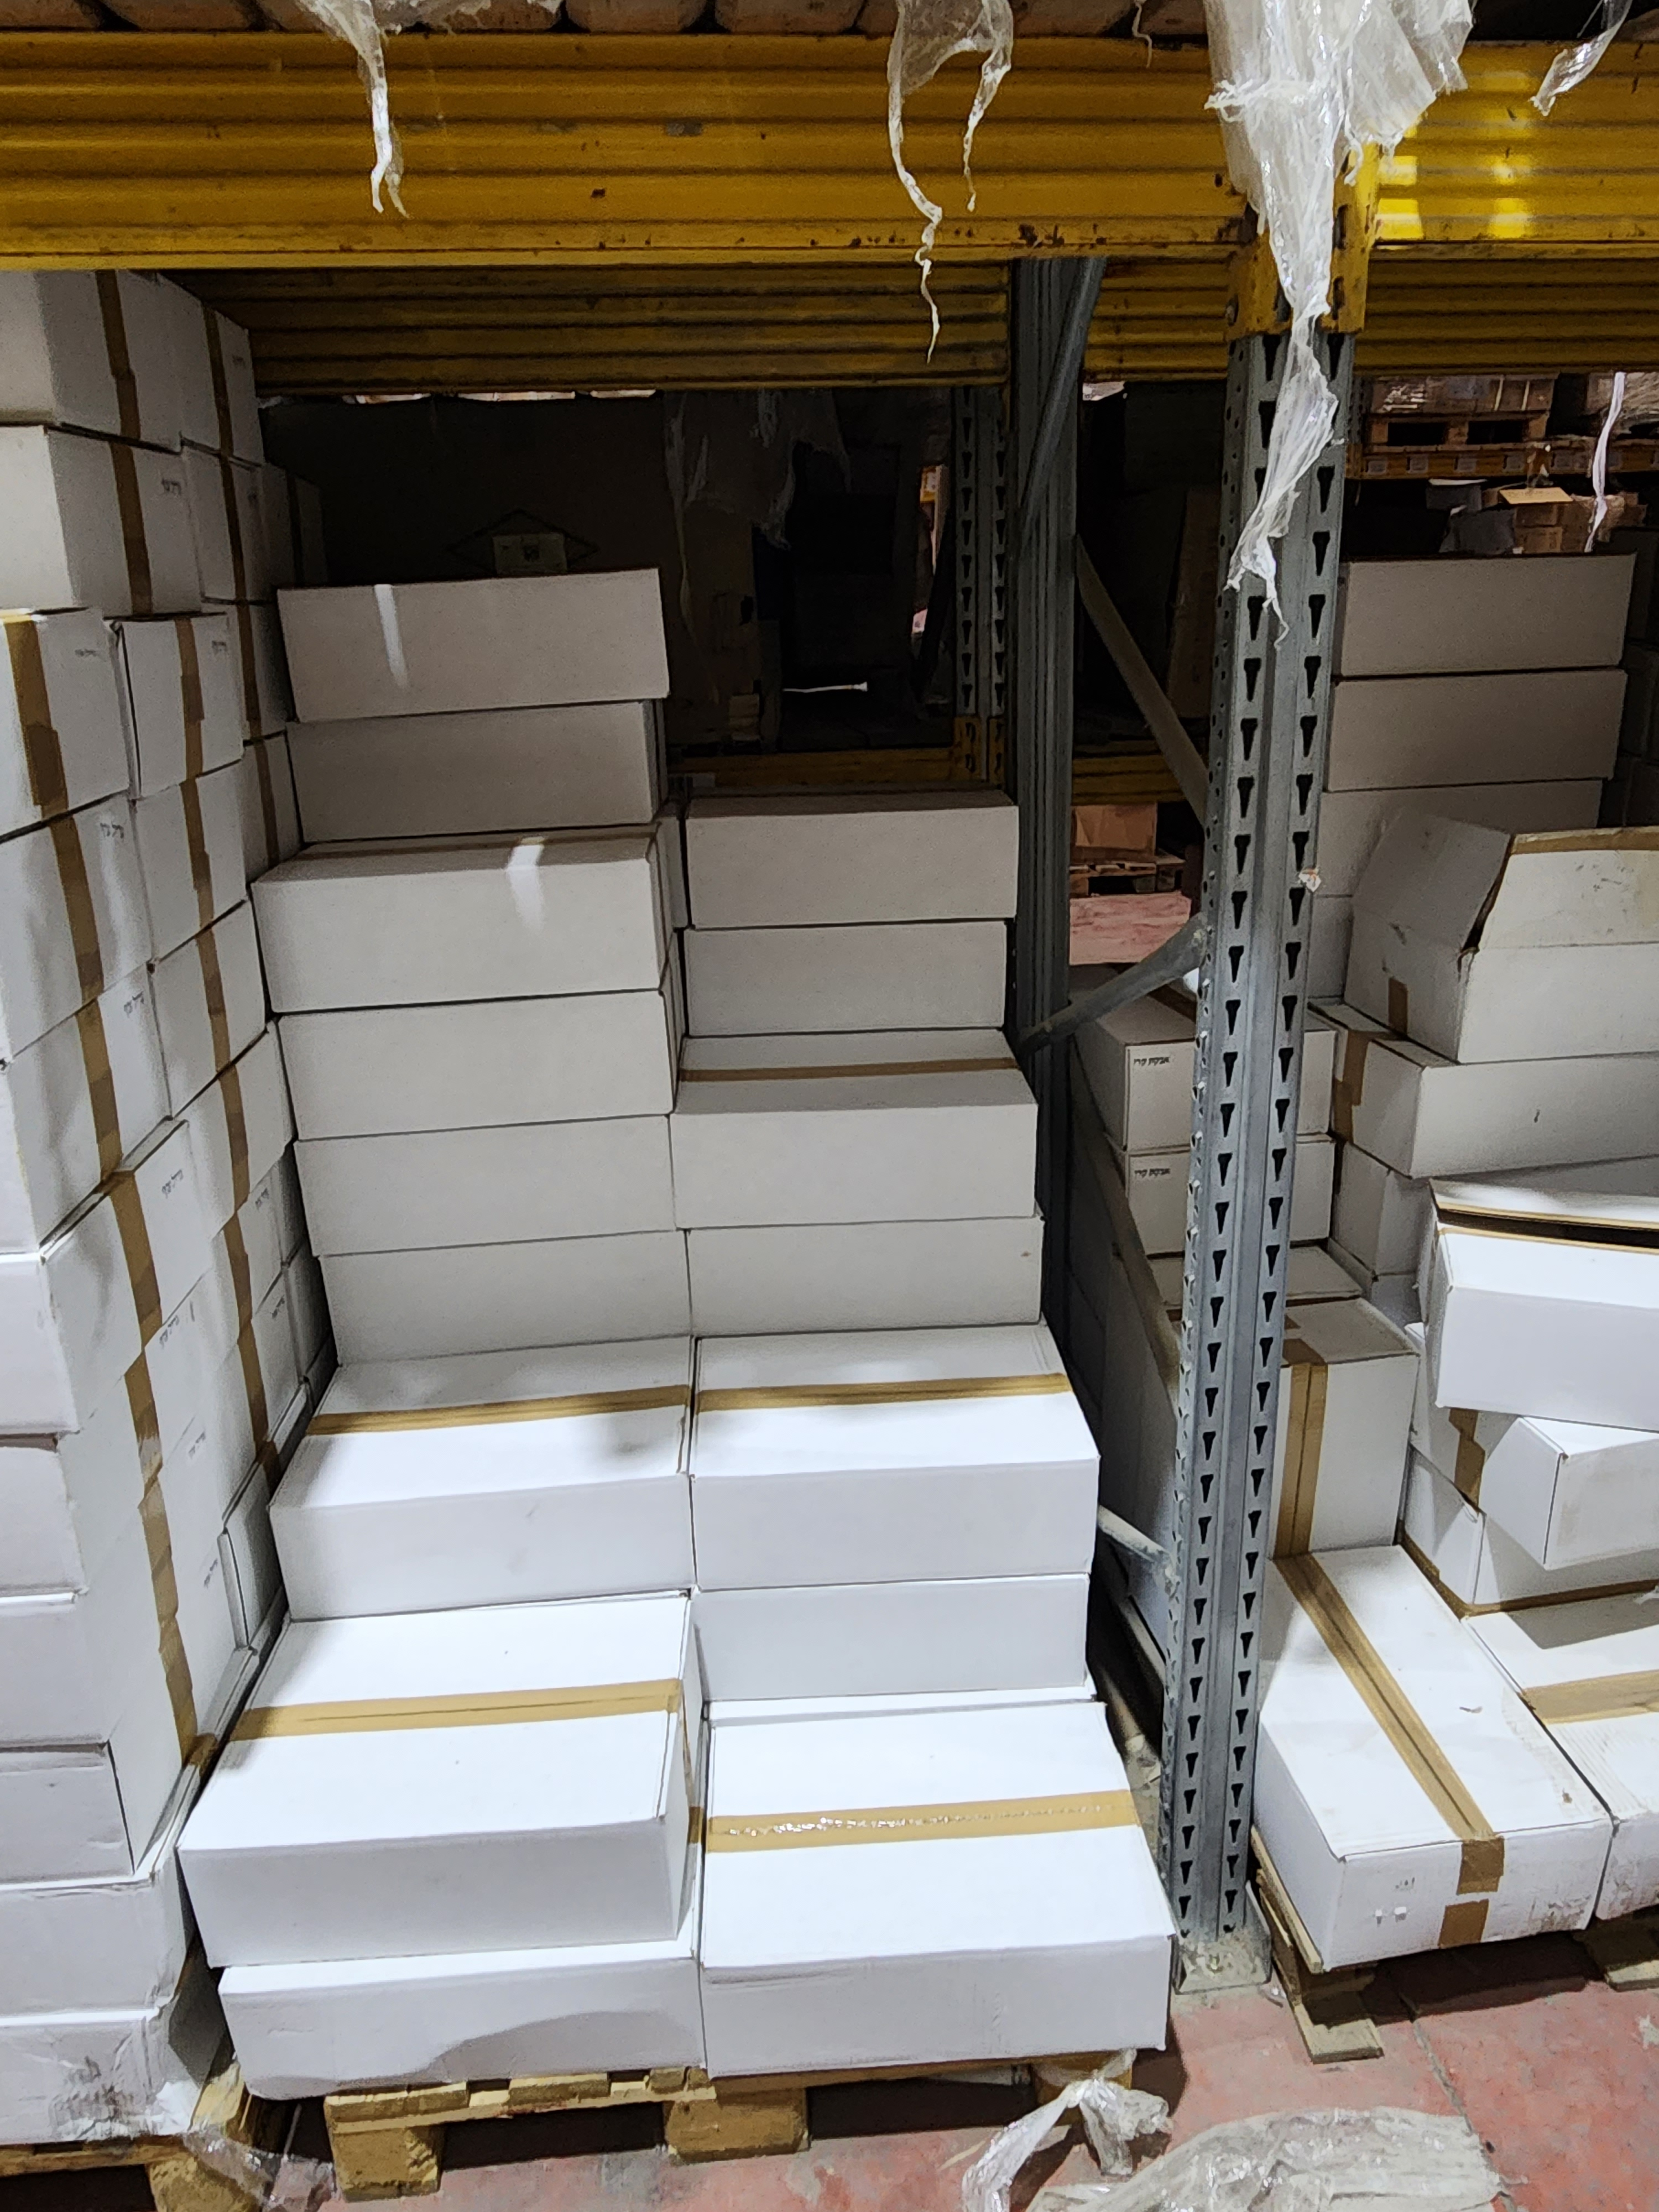box: (671, 1665, 1249, 2121), (197, 1575, 704, 1972), (666, 1271, 1169, 1613), (1249, 1519, 1589, 1980), (239, 1324, 718, 1609), (28, 1043, 174, 1890), (629, 1529, 1117, 1730), (157, 1958, 711, 2125), (258, 1089, 704, 1268), (254, 1214, 734, 1376), (272, 559, 718, 732), (253, 822, 685, 996), (692, 1042, 1065, 1240), (258, 975, 714, 1132), (239, 698, 678, 845), (688, 900, 1058, 1050), (1330, 644, 1635, 820), (681, 803, 1065, 934), (711, 1193, 1087, 1320), (1349, 536, 1659, 690), (31, 423, 129, 641)
